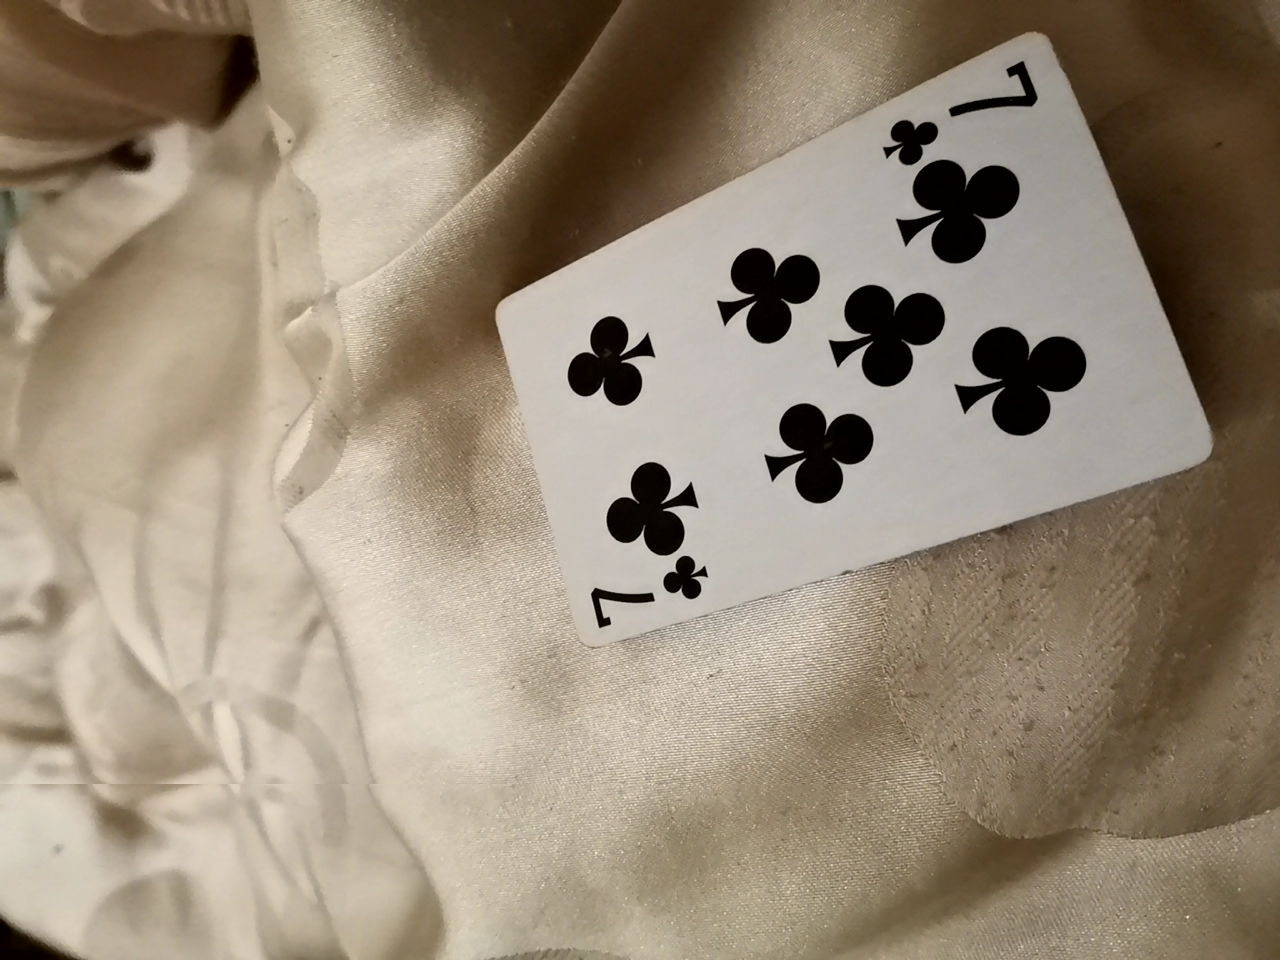mh 7: (479, 44, 1230, 652)
